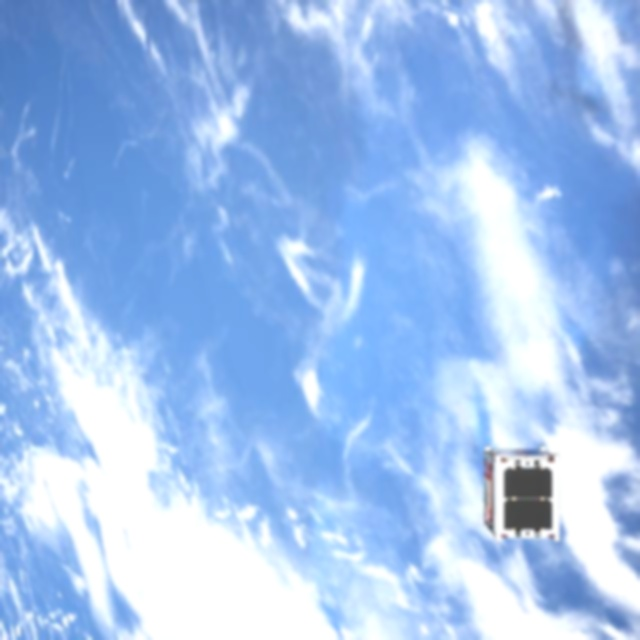medium_debris: (479, 442, 566, 541)
